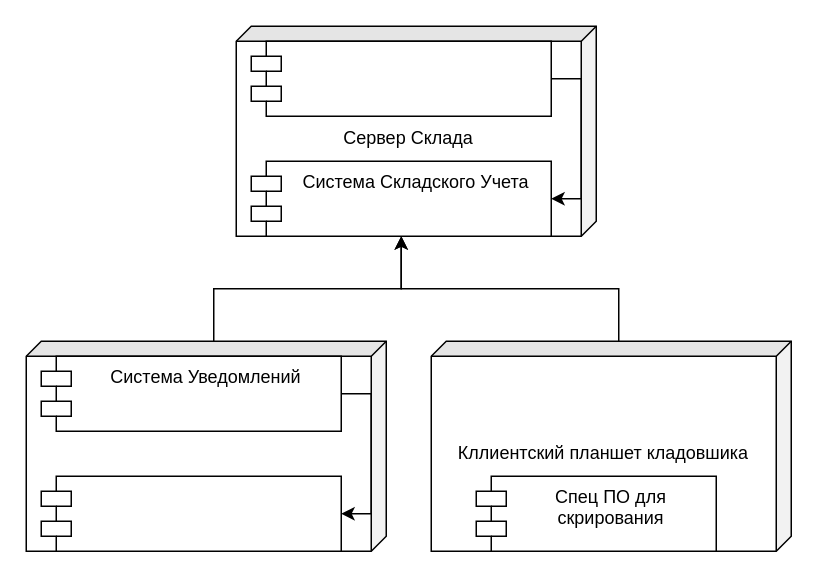
This 818x578 diagram has some shape labels left out. Each missing label, with the box of its shape:
База Данных: (250, 40, 551, 116)
Интерфейс Менеджера по Закупкам: (40, 475, 341, 551)
Клиентский ПК Менеджера по Закупкам: (25, 340, 386, 551)
